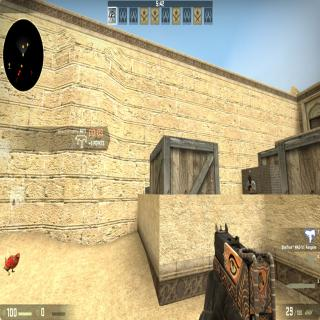T-Body: (245, 174, 257, 194)
T-Head: (247, 175, 252, 183)
